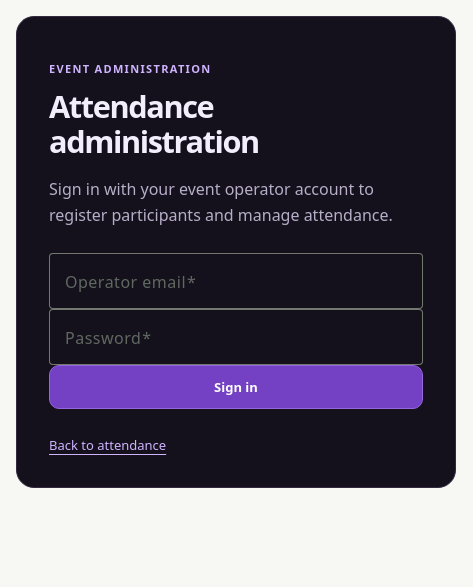
Admin access › denies authenticated accounts that are not event operators
Type "person@example.com" into the field labelled "Operator email". click: (236, 280)
box: [65, 268, 407, 292]
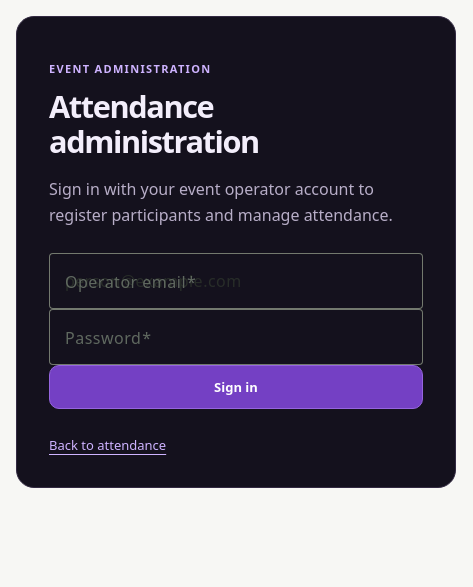
Type "password" into the password field labelled "Password". click: (236, 336)
box: [65, 324, 407, 348]
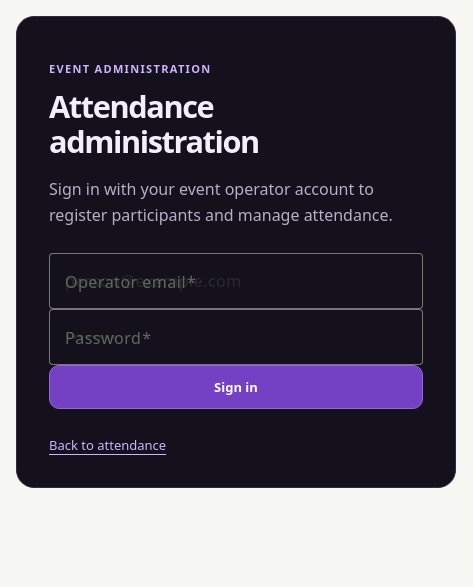
Submit the form, box [49, 252, 423, 408]
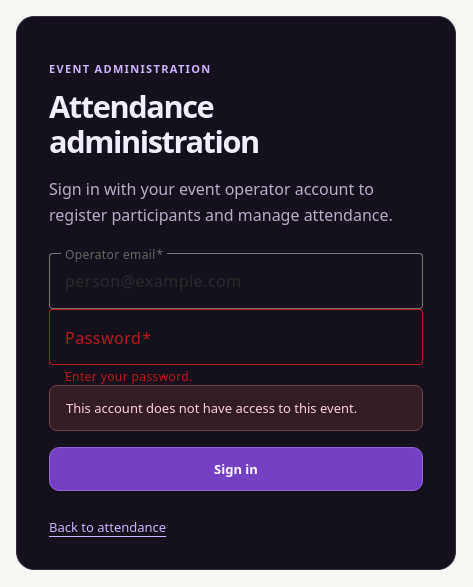
Now the text "This account does not have access" is shown, box [66, 398, 357, 416]
